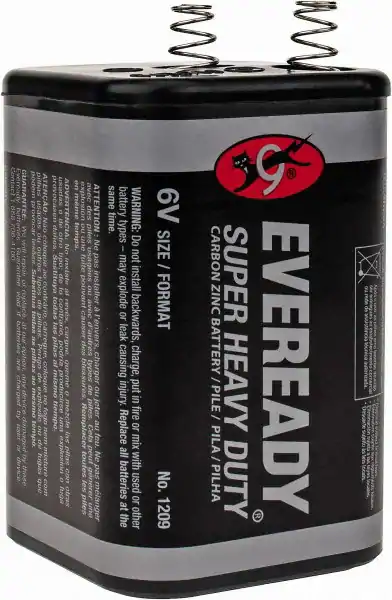6V: (15, 10, 375, 595)
